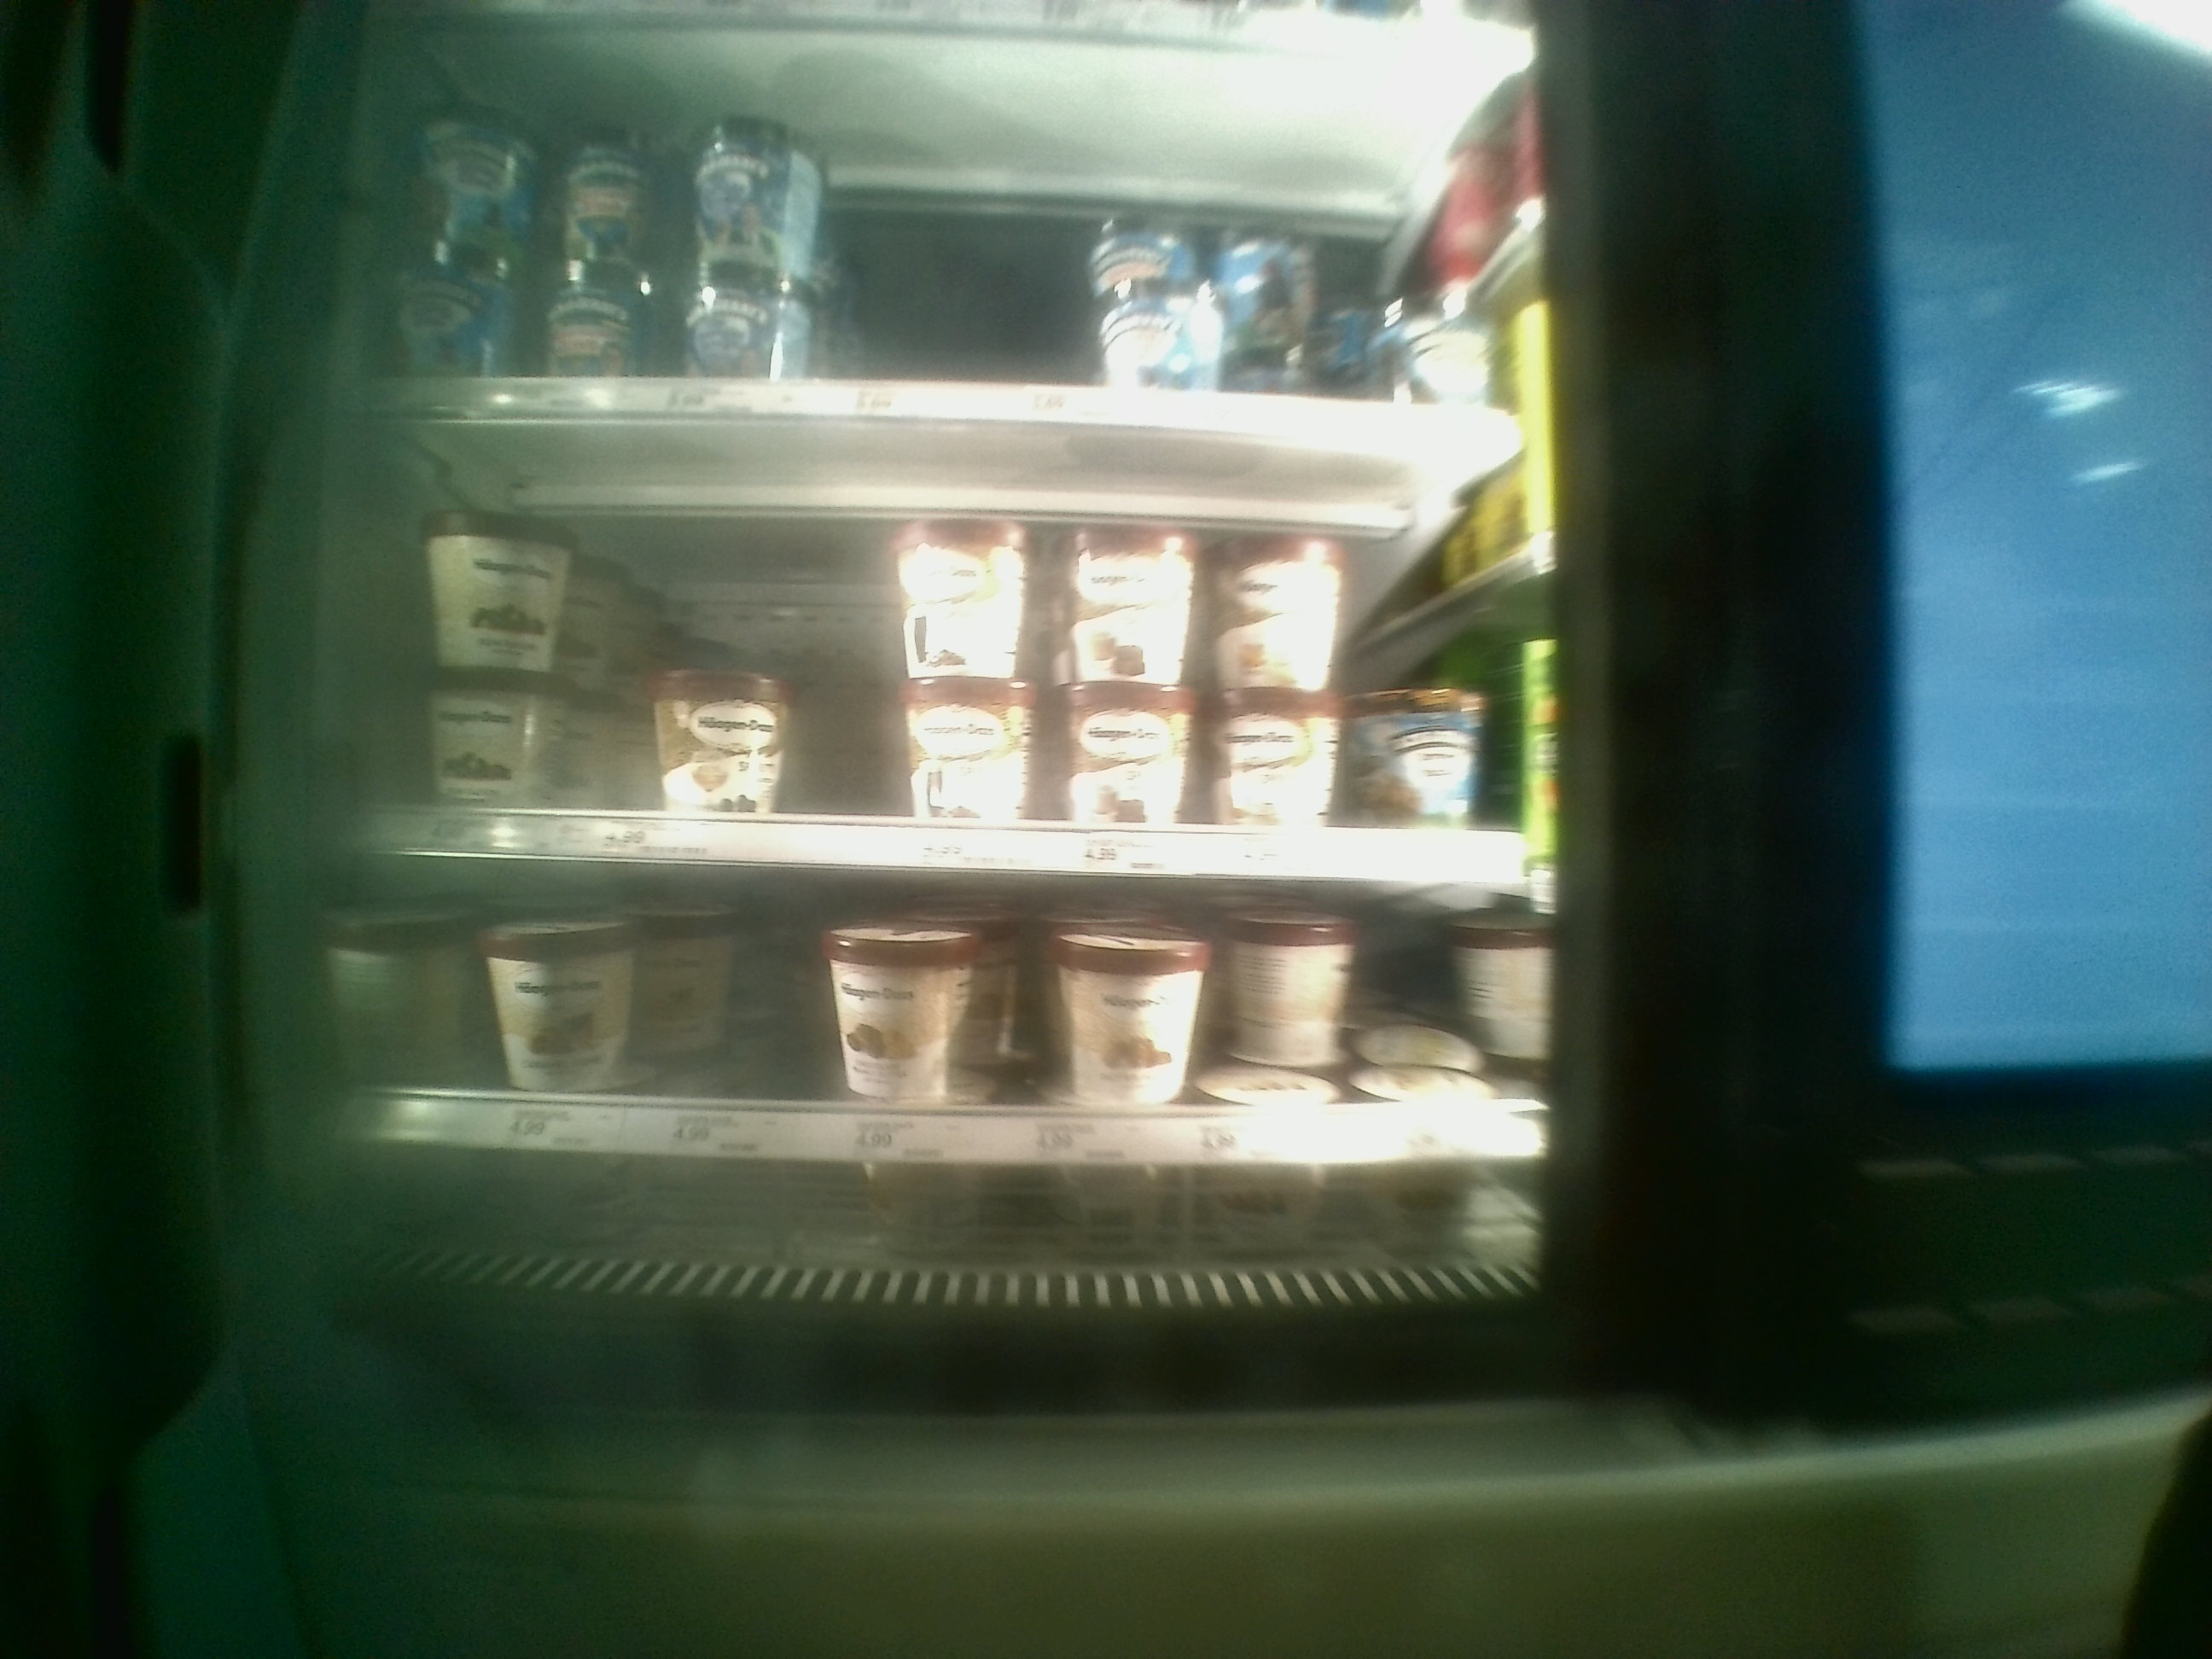shelf: (369, 420, 1550, 870), (369, 859, 1548, 1183)
